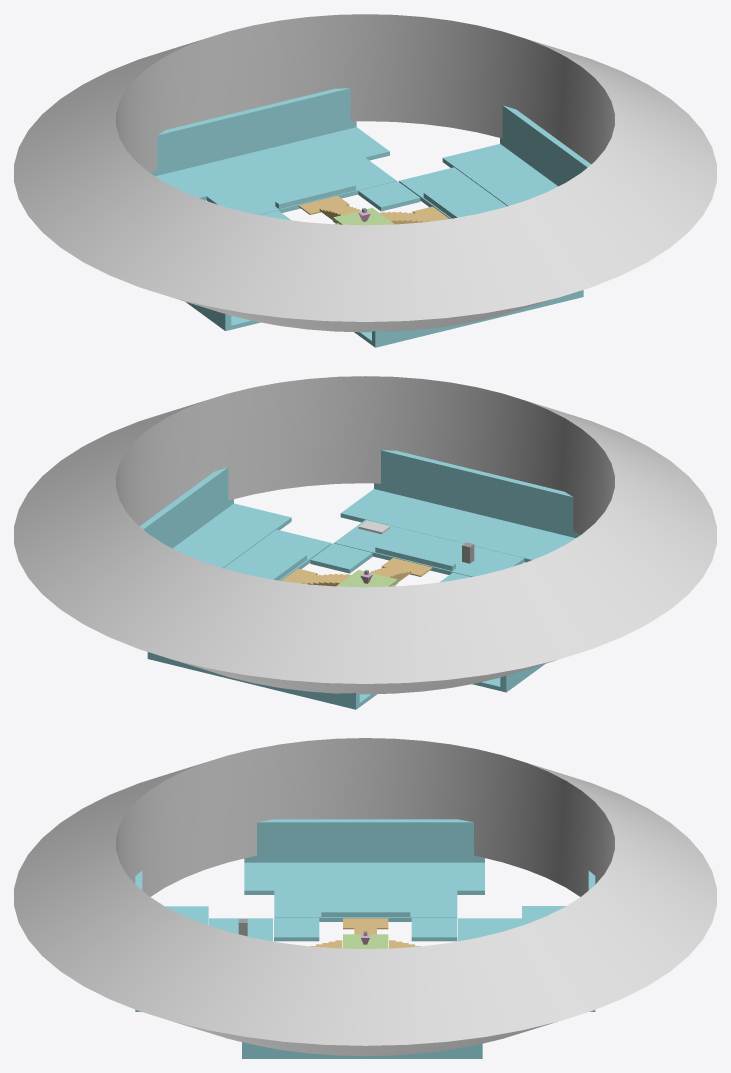
File: stage.fbx
3 views of the same model, one above another, from view 1: azimuth 30°, elevation 25°; view 2: azimuth 150°, elevation 25°; view 3: azimuth 270°, elevation 25° (orthographic).
Parts seen in each view (by area): view 1: 圆环, pCube19, pCube20, pCube18, pCube17, pCube22, pCube3, pCube32, pCube21, pCube9; view 2: 圆环, pCube22, pCube20, pCube16, pCube17, pCube19, pCube2, pCube30, pCube21, pCube9; view 3: 圆环, pCube21, pCube15, pCube20, pCube4, pCube1, pCube18, pCube16, pCube31, pCube19, pCube22, pCube9.
Part boxes in pixels (x1,y1,x2,y2): 圆环: [14, 14, 716, 332]; pCube19: [150, 88, 389, 200]; pCube20: [442, 105, 590, 206]; pCube18: [206, 157, 396, 214]; pCube17: [399, 167, 507, 218]; pCube22: [354, 290, 583, 347]; pCube3: [358, 181, 420, 211]; pCube32: [275, 183, 355, 208]; pCube21: [186, 302, 260, 330]; pCube9: [333, 208, 394, 225]; 圆环: [14, 376, 716, 694]; pCube22: [340, 450, 580, 562]; pCube20: [140, 467, 291, 568]; pCube16: [334, 519, 524, 576]; pCube17: [223, 529, 331, 580]; pCube19: [147, 652, 377, 709]; pCube2: [310, 543, 372, 573]; pCube30: [375, 545, 455, 570]; pCube21: [472, 664, 544, 692]; pCube9: [336, 570, 397, 587]; 圆环: [14, 738, 716, 1056]; pCube21: [244, 819, 484, 894]; pCube15: [274, 890, 457, 921]; pCube20: [242, 1042, 482, 1058]; pCube4: [411, 918, 457, 941]; pCube1: [274, 918, 319, 941]; pCube18: [458, 918, 521, 941]; pCube16: [209, 918, 272, 941]; pCube31: [321, 909, 410, 916]; pCube19: [522, 870, 595, 1011]; pCube22: [135, 870, 208, 1011]; pCube9: [343, 934, 388, 948].
Bounding box in the file's own units: 155 × 28.68 × 155.
